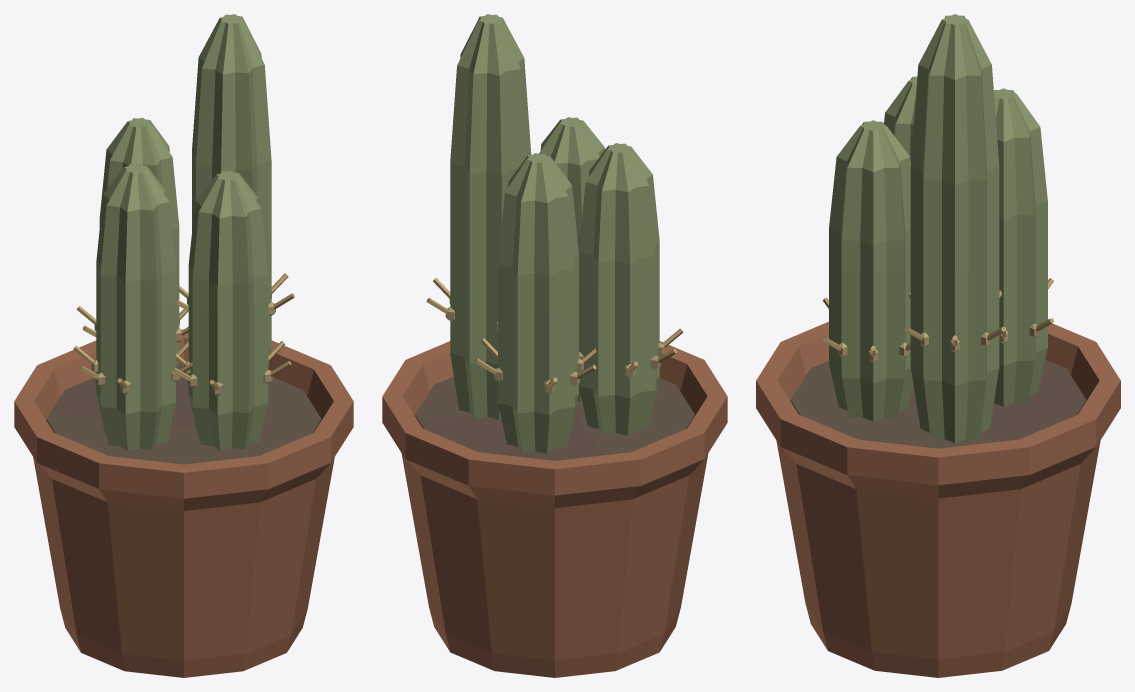
File: new-elongata.glb
The picture shows the model from 3 angles, left to right: view 1: azimuth 30°, elevation 25°; view 2: azimuth 150°, elevation 25°; view 3: azimuth 270°, elevation 25°; orthographic projection. The views are drawn at different scales.
Parts seen in each view (by area): view 1: new-elongata/review-terra-vessel, new-elongata/ribbed-stem-027, new-elongata/ribbed-stem-040, new-elongata/ribbed-stem-001, new-elongata/review-rooted-soil, new-elongata/ribbed-stem-014; view 2: new-elongata/review-terra-vessel, new-elongata/ribbed-stem-001, new-elongata/ribbed-stem-014, new-elongata/ribbed-stem-027, new-elongata/review-rooted-soil, new-elongata/ribbed-stem-040; view 3: new-elongata/review-terra-vessel, new-elongata/ribbed-stem-001, new-elongata/ribbed-stem-040, new-elongata/ribbed-stem-014, new-elongata/review-rooted-soil, new-elongata/ribbed-stem-027.
Boxes of the visible parts, x1,y1,x2,y2 form: new-elongata/review-terra-vessel: [14, 332, 353, 677]; new-elongata/ribbed-stem-027: [96, 163, 175, 451]; new-elongata/ribbed-stem-040: [188, 171, 268, 450]; new-elongata/ribbed-stem-001: [192, 14, 271, 364]; new-elongata/review-rooted-soil: [46, 361, 321, 464]; new-elongata/ribbed-stem-014: [99, 117, 179, 368]; new-elongata/review-terra-vessel: [382, 341, 727, 677]; new-elongata/ribbed-stem-001: [450, 14, 531, 419]; new-elongata/ribbed-stem-014: [498, 153, 578, 453]; new-elongata/ribbed-stem-027: [578, 143, 659, 435]; new-elongata/review-rooted-soil: [415, 376, 694, 460]; new-elongata/ribbed-stem-040: [539, 117, 605, 401]; new-elongata/review-terra-vessel: [756, 321, 1120, 677]; new-elongata/ribbed-stem-001: [910, 14, 999, 443]; new-elongata/ribbed-stem-040: [829, 120, 913, 421]; new-elongata/ribbed-stem-014: [994, 88, 1047, 406]; new-elongata/review-rooted-soil: [790, 359, 1086, 448]; new-elongata/ribbed-stem-027: [884, 76, 917, 162].
Bounding box in the file's own units: 0.19 × 0.3642 × 0.19.
5 materials, 5 textured.
